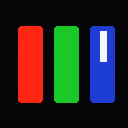4 line_v: (100, 31, 106, 61)
